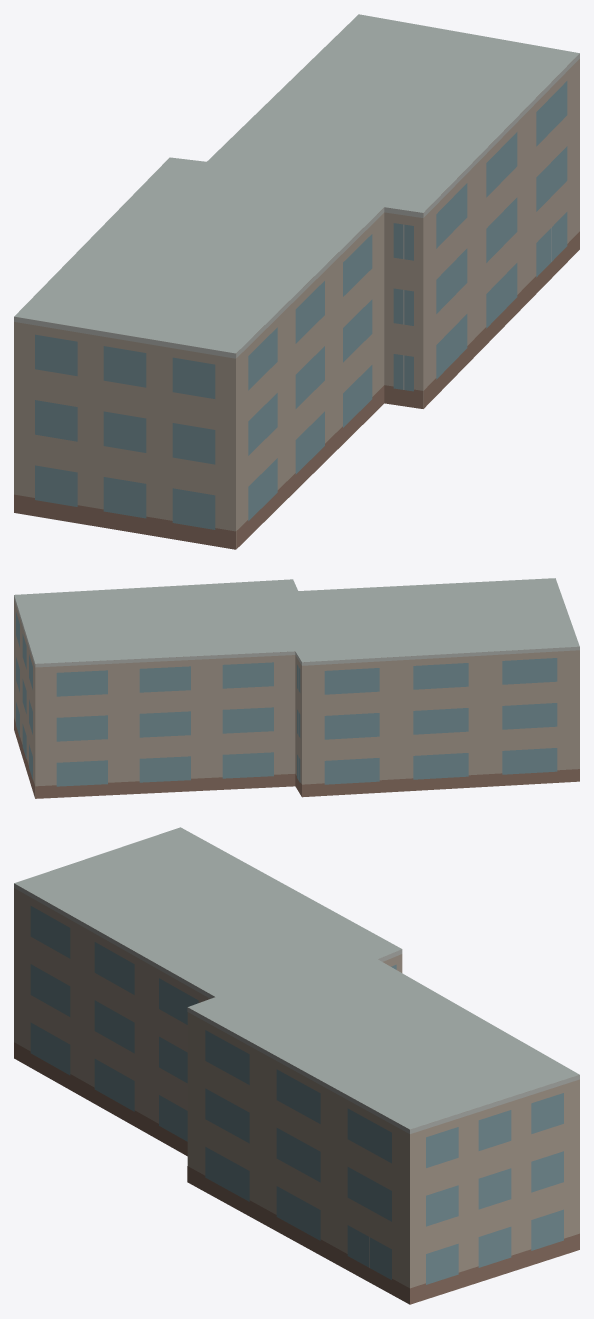
Rendered from survey-upis-32926246.glb.
3 renders of one model, top to bottom at view 1: azimuth 30°, elevation 25°; view 2: azimuth 150°, elevation 25°; view 3: azimuth 270°, elevation 25°, orthographic. The views are drawn at different scales.
Visible parts, largest first — view 1: survey-upis-32926246.tmp; view 2: survey-upis-32926246.tmp; view 3: survey-upis-32926246.tmp.
Boxes of the visible parts, x1,y1,x2,y2 form: survey-upis-32926246.tmp: (14, 14, 579, 549); survey-upis-32926246.tmp: (14, 578, 579, 798); survey-upis-32926246.tmp: (14, 827, 579, 1304).
Bounding box in the file's own units: 33.89 × 9.15 × 26.81.
